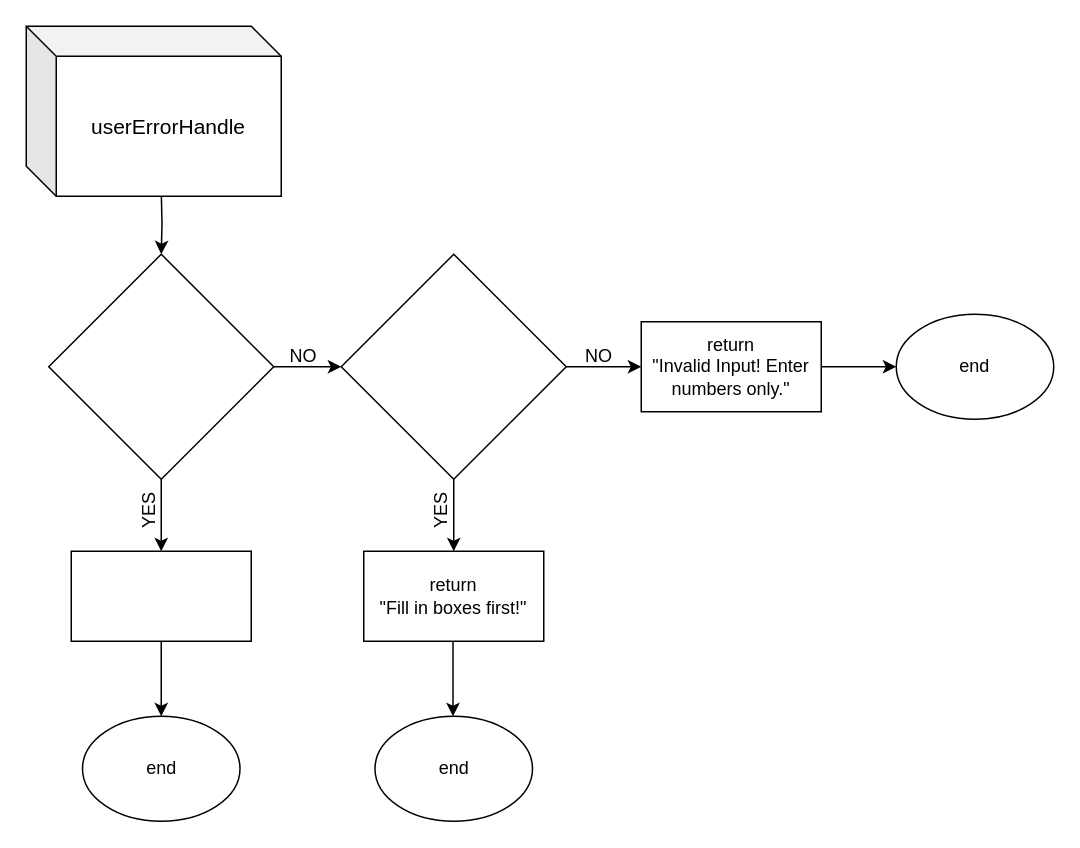
This 1080x848 diagram has some shape labels left out. The shapes that lost their labels are listed below. From the top down, each one's centre as x and y in pixels, then its label:
At point (160, 366): "is oper == ! AND there is a non-empty text box".
At point (453, 366): "is there an empty text box?".
At point (160, 595): "handleFactorial".
